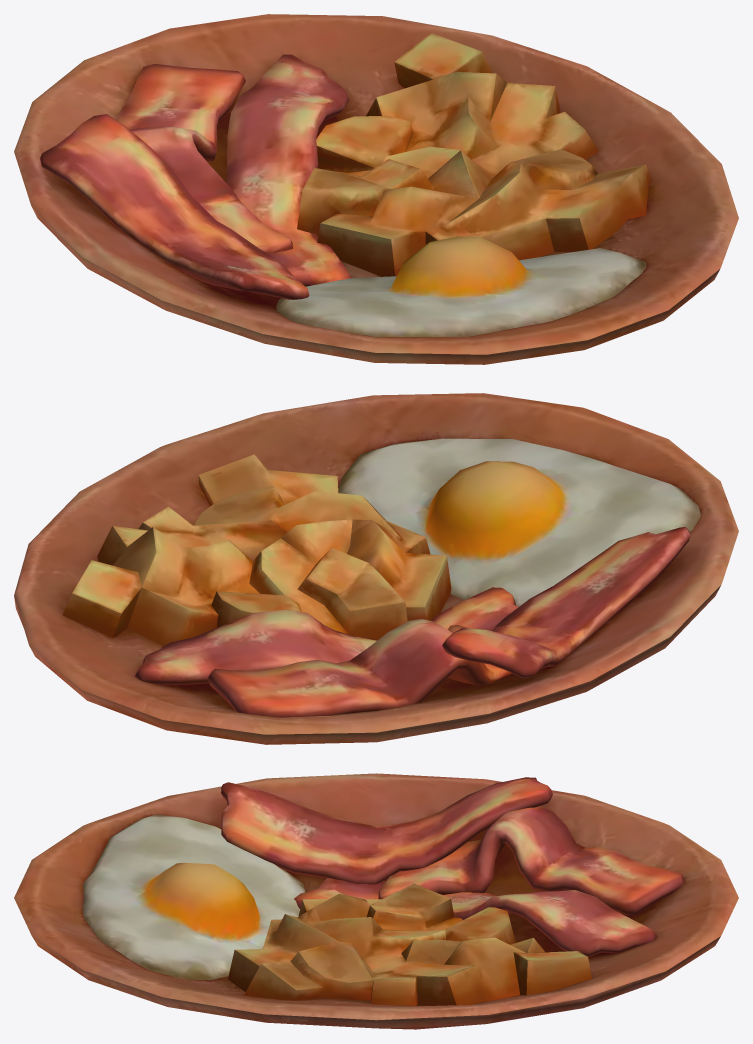
The picture shows the model from 3 angles, top to bottom: view 1: azimuth 30°, elevation 25°; view 2: azimuth 150°, elevation 25°; view 3: azimuth 270°, elevation 25°; orthographic projection. The views are drawn at different scales.
Visible parts, largest first — view 1: SM_Item_Food_Fryup_Cheeky_LOD0; view 2: SM_Item_Food_Fryup_Cheeky_LOD0; view 3: SM_Item_Food_Fryup_Cheeky_LOD0.
Boxes of the visible parts, x1,y1,x2,y2 form: SM_Item_Food_Fryup_Cheeky_LOD0: (14, 14, 738, 364); SM_Item_Food_Fryup_Cheeky_LOD0: (14, 393, 738, 744); SM_Item_Food_Fryup_Cheeky_LOD0: (14, 773, 738, 1029).
Size of the model in its own units: 0.3578 by 0.0677 by 0.4454.
1 material, 1 textured.
